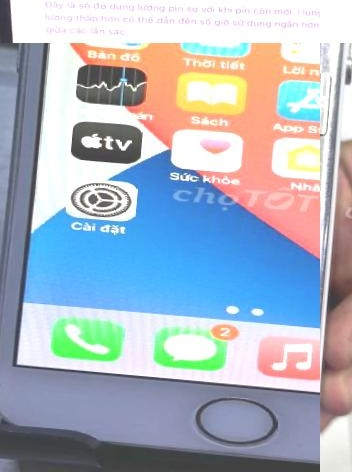scratch: (160, 0, 352, 308)
screen_defect: (219, 0, 320, 43)
